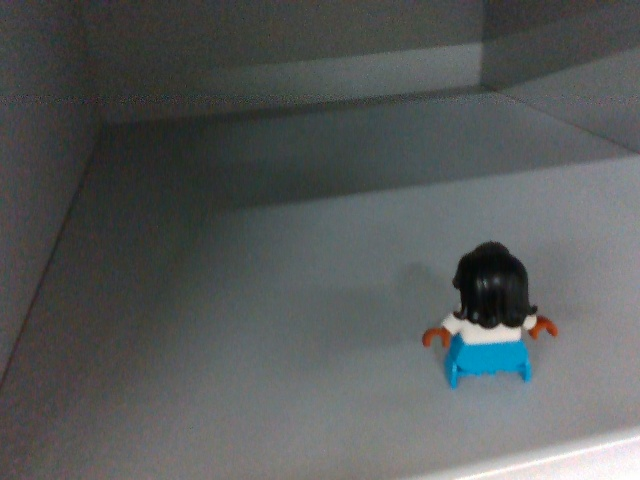people: (421, 240, 562, 395)
